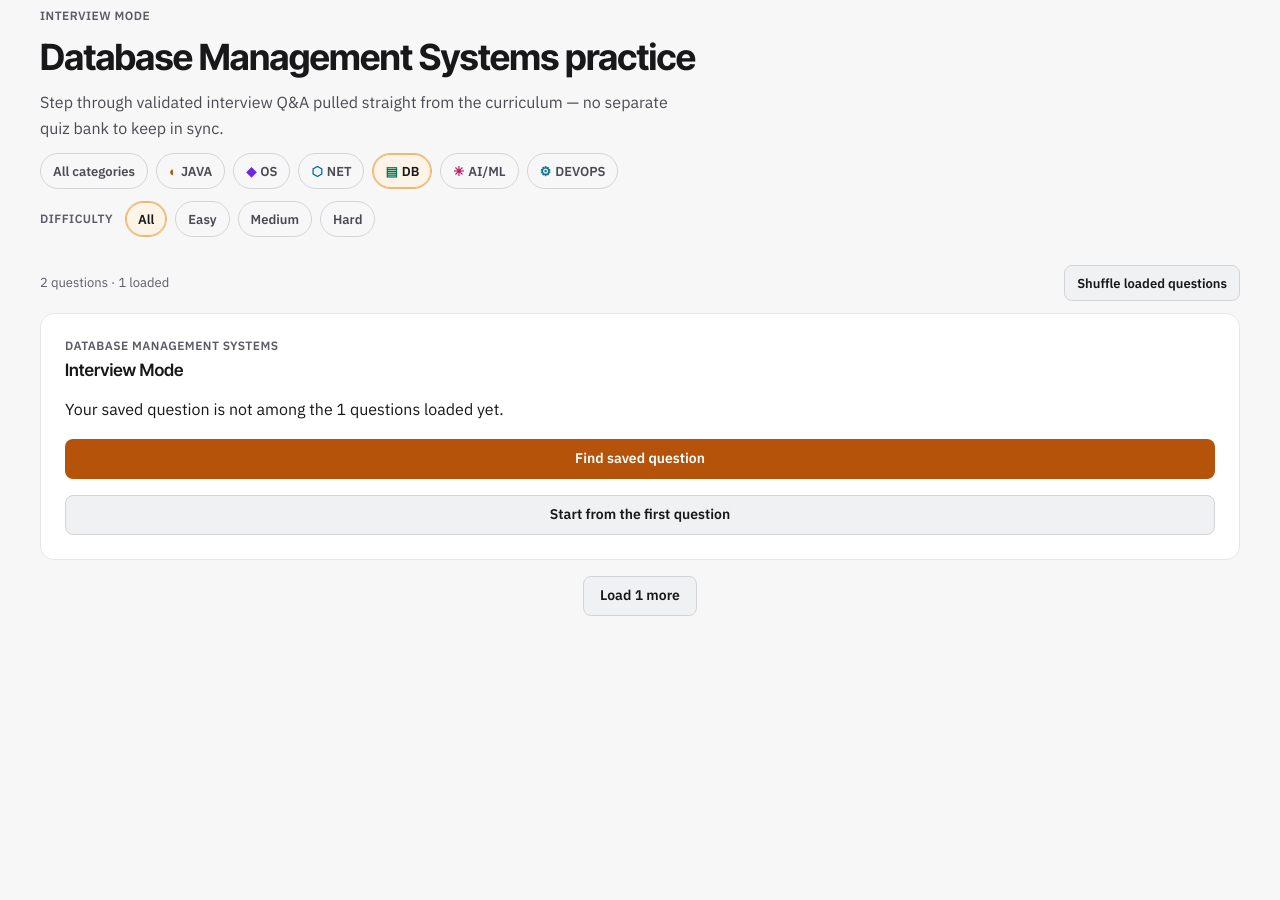
it: InterviewPage › finds a saved question on a later page instead of silently starting at question one
Check: the text "Your saved question is not among the 1 questions loaded yet." is shown, box [65,399,504,419]
What coordinates should you click on to do the following:
click the button "Find saved question"
I would click on:
 (640, 459)
Its box is [65,439,1215,479].
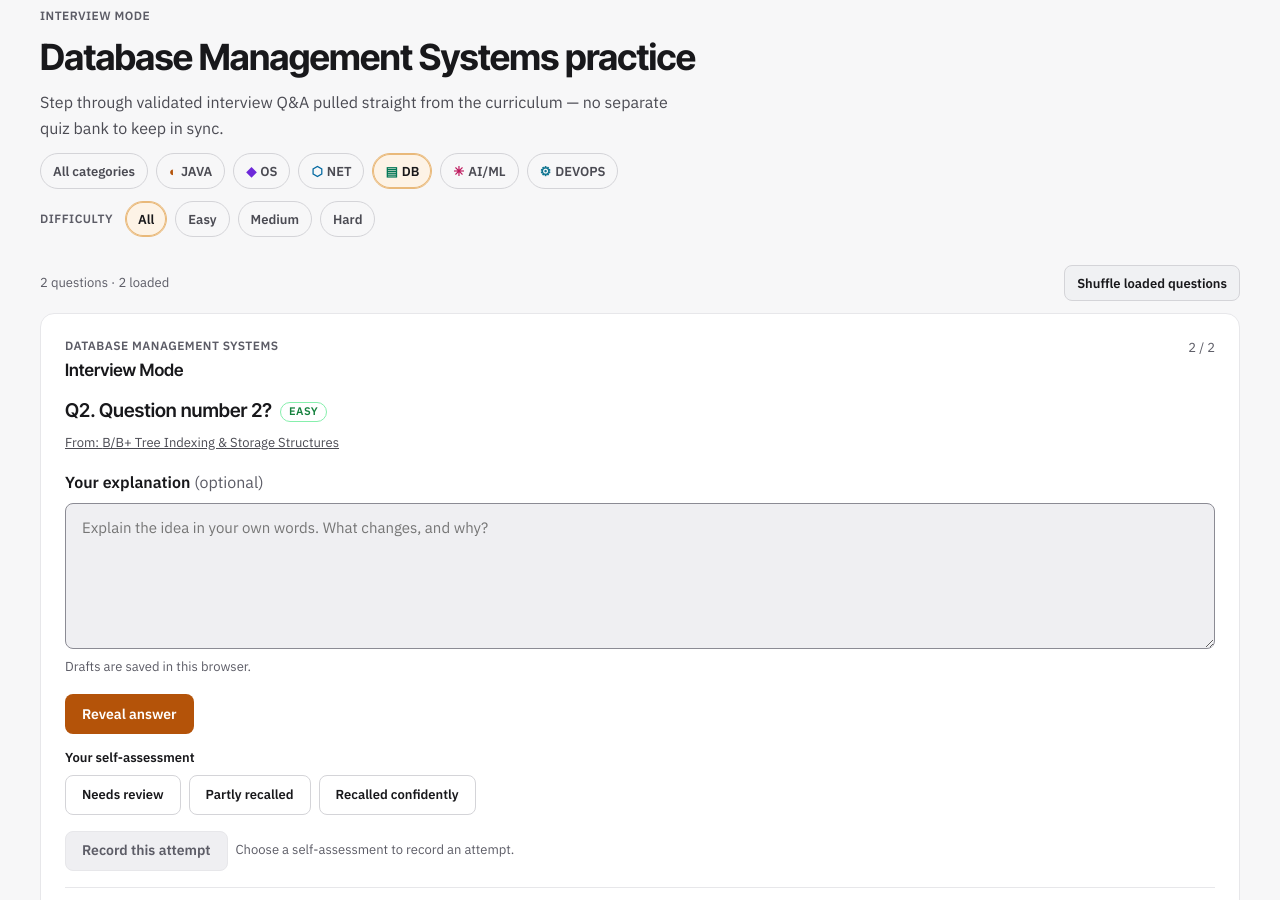
Check: the text "Q2. Question number 2? easy" is shown, box [65,399,327,422]
Check: the text "2 / 2" is shown, box [1188,338,1215,359]
